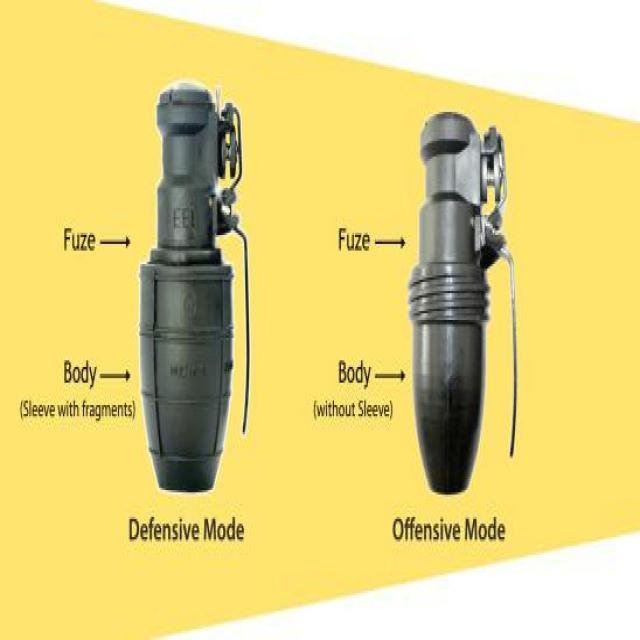grenade: (140, 84, 251, 496), (408, 113, 519, 495)
